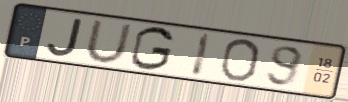9: (264, 44, 306, 87)
G: (128, 25, 177, 72)
I: (188, 31, 214, 79)
J: (45, 16, 86, 59)
O: (217, 38, 263, 83)
U: (83, 18, 135, 66)
